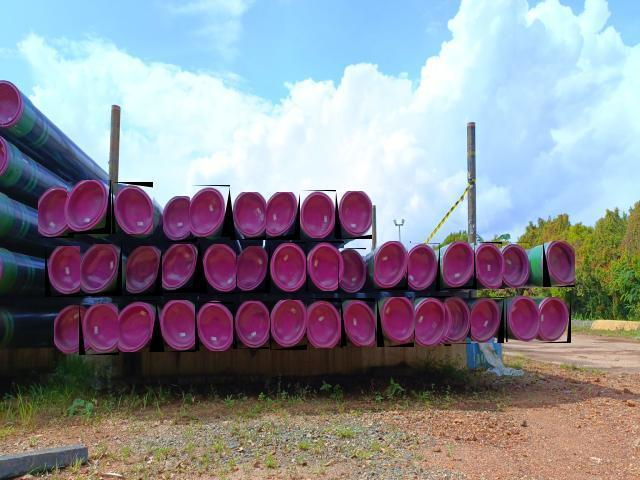pipe: (67, 180, 111, 235), (80, 244, 122, 296), (112, 183, 153, 234), (190, 185, 230, 237), (79, 303, 119, 355), (118, 300, 158, 352), (156, 300, 196, 352), (45, 246, 83, 297), (306, 241, 344, 291), (38, 186, 74, 238), (162, 244, 200, 293), (126, 246, 163, 296), (270, 242, 307, 292), (270, 300, 307, 350), (377, 297, 414, 347), (196, 302, 233, 351), (374, 241, 411, 290), (200, 244, 236, 294), (307, 298, 343, 348), (416, 296, 452, 346), (230, 192, 266, 241), (300, 190, 336, 238), (336, 191, 372, 239), (233, 301, 269, 349), (54, 304, 88, 354), (266, 192, 301, 240), (341, 298, 375, 346), (443, 242, 477, 289), (506, 295, 540, 342), (164, 196, 198, 242), (237, 246, 270, 293), (408, 243, 440, 291), (471, 297, 504, 343), (543, 241, 575, 288), (539, 297, 571, 343), (474, 242, 505, 289), (338, 248, 366, 293), (502, 243, 530, 288), (445, 297, 471, 344)
